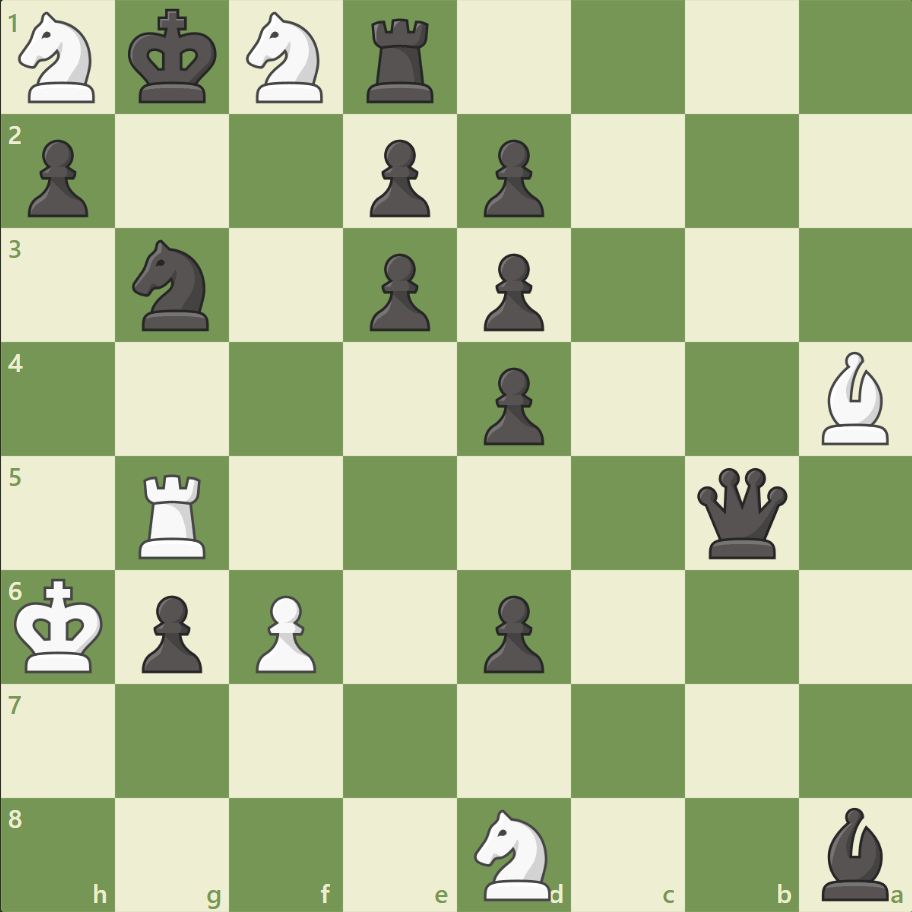B: (812, 347, 896, 449)
K: (11, 571, 111, 679)
N: (238, 7, 335, 110), (11, 7, 108, 110), (465, 802, 562, 904)
P: (247, 586, 322, 677)
R: (133, 466, 215, 563)
b: (812, 801, 896, 904)
k: (124, 4, 224, 112)
n: (124, 234, 222, 337)
p: (474, 586, 549, 677), (133, 586, 208, 677), (474, 359, 549, 450), (474, 246, 549, 337), (474, 132, 549, 223), (20, 132, 95, 223), (361, 246, 435, 337), (361, 132, 435, 223)
q: (691, 463, 790, 562)
r: (360, 12, 442, 109)
